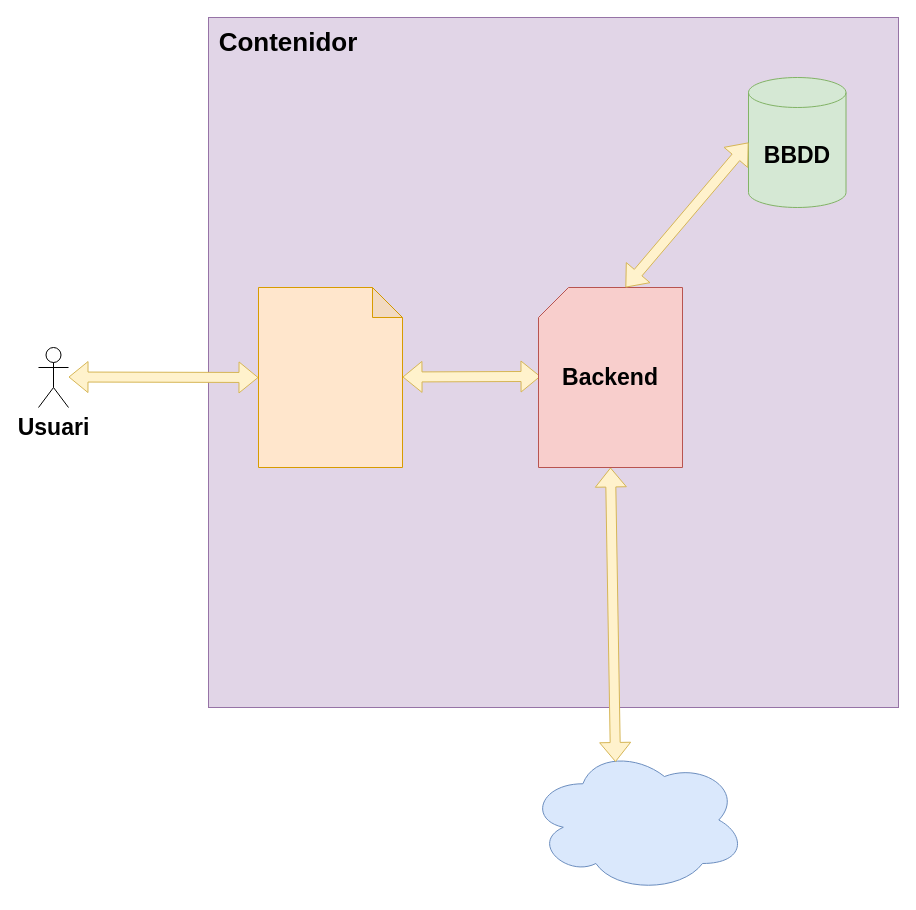
This 916x910 diagram has some shape labels left out. The shapes that lost their labels are listed below. From the top down, each one's centre as x and y in pixels, then its label:
At point (330, 377): "Frontend".
At point (637, 819): "Integracions".
